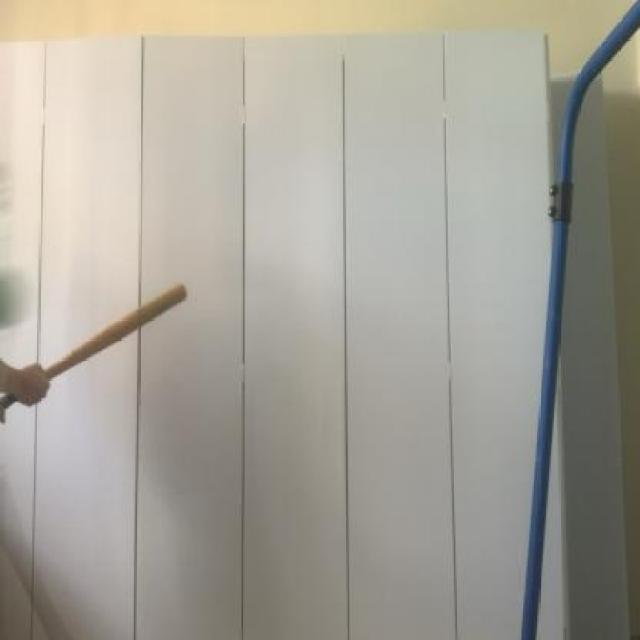baseball: (0, 252, 37, 342)
